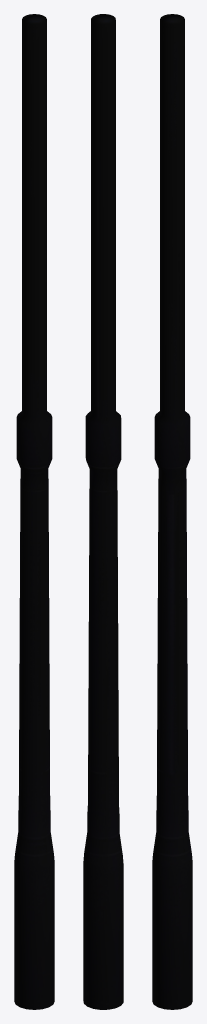
The model's file is station-sign-pole-unit-tripo-original.glb.
3 renders of one model, left to right at view 1: azimuth 90°, elevation 25°; view 2: azimuth 150°, elevation 25°; view 3: azimuth 270°, elevation 25°, orthographic.
Visible parts, largest first — view 1: Authored_surface; view 2: Authored_surface; view 3: Authored_surface.
Part boxes in pixels (<box>): Authored_surface: <box>14,14,54,1009</box>; Authored_surface: <box>83,14,123,1009</box>; Authored_surface: <box>152,14,192,1009</box>.
Size of the model in its own units: 0.0375 by 1 by 0.0375.
Materials: 1 (1 with a texture image).
